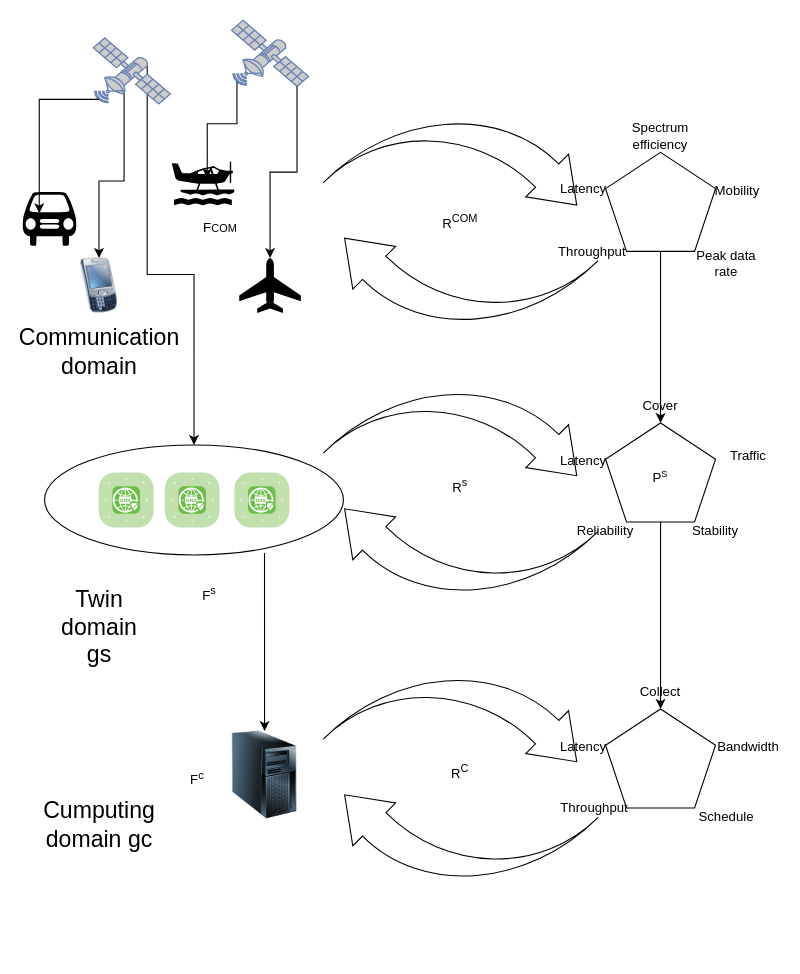
Image size: 800x974. Some labels were removed from this diagram. The shapes that lost their labels are listed below. From the top down, each one's centre as x and y in pixels, then its label:
At (660,201): "P COM".
At (660,758): "P C".
